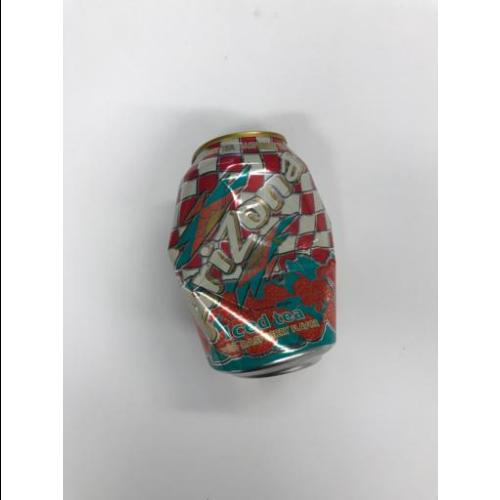metal: (171, 128, 334, 377)
